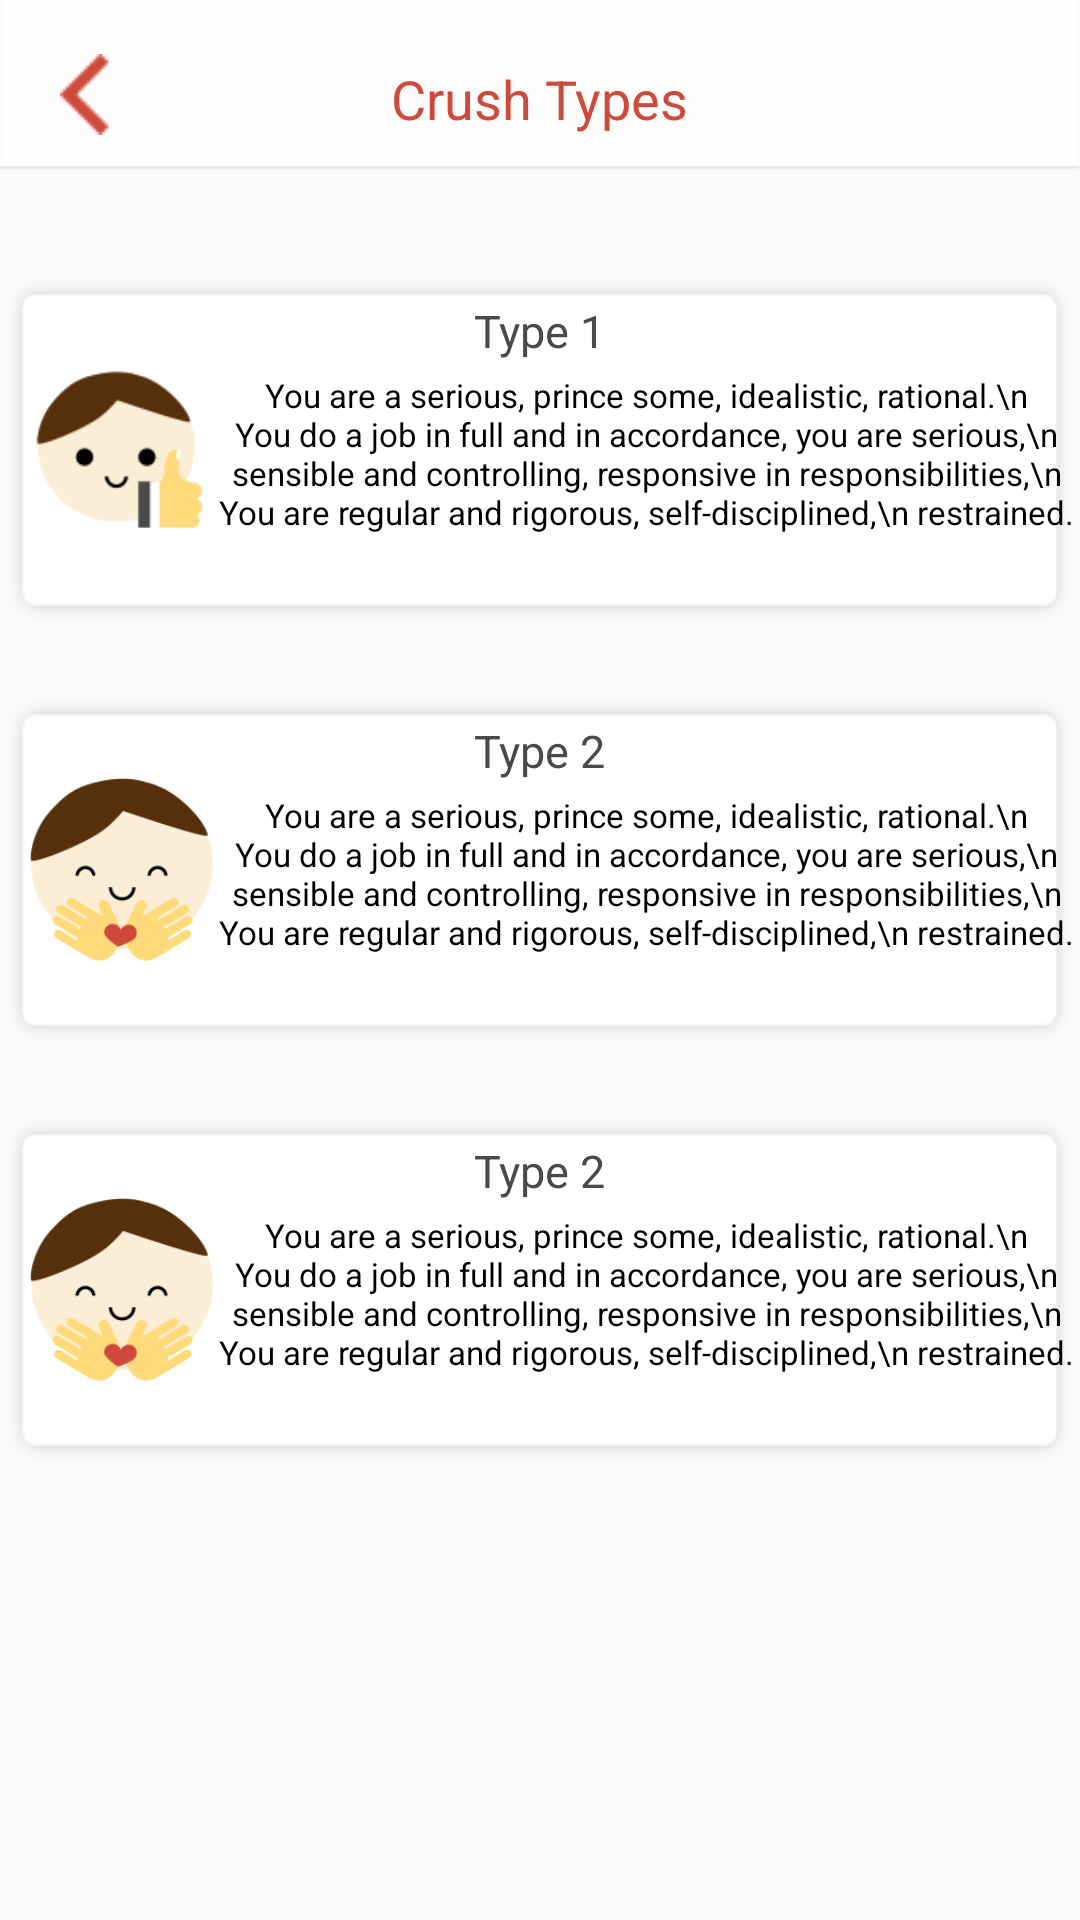

Icon click points for this 1080×1920 phone screenshot, format (x=x, y=y):
backbutton: (x=84, y=94)
